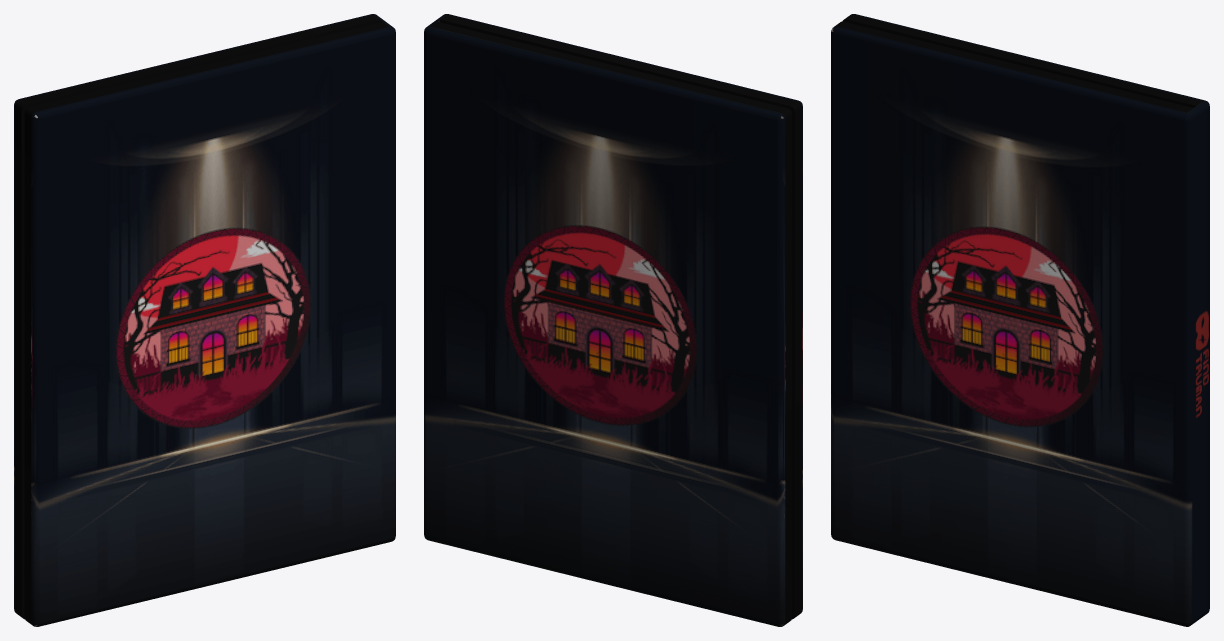
File: Beelzebub.FBX
The picture shows the model from 3 angles, left to right: view 1: azimuth 30°, elevation 25°; view 2: azimuth 150°, elevation 25°; view 3: azimuth 330°, elevation 25°; orthographic projection.
Parts seen in each view (by area): view 1: CDcase_cover, CDcase_side; view 2: CDcase_cover, CDcase_side; view 3: CDcase_cover, CDcase_side.
Part boxes in pixels (bbox=[...]): CDcase_cover: bbox=[14, 14, 395, 626]; CDcase_side: bbox=[15, 14, 389, 624]; CDcase_cover: bbox=[424, 14, 802, 626]; CDcase_side: bbox=[430, 14, 801, 624]; CDcase_cover: bbox=[831, 14, 1209, 626]; CDcase_side: bbox=[835, 14, 1203, 112].
Bounding box in the file's own units: 0.7003 × 0.95 × 0.0787.
